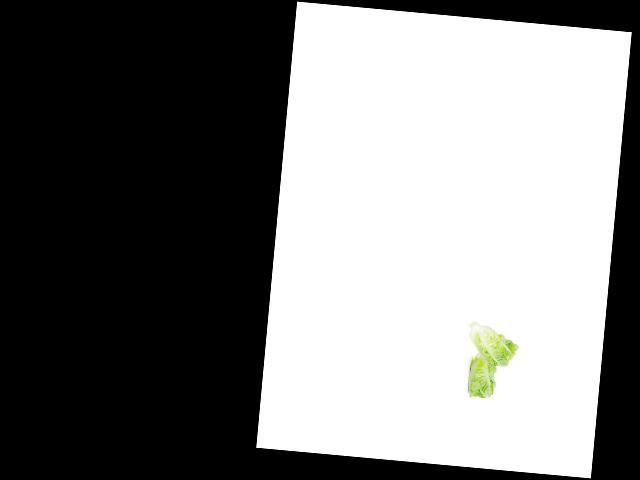lettuce: (461, 319, 518, 373)
